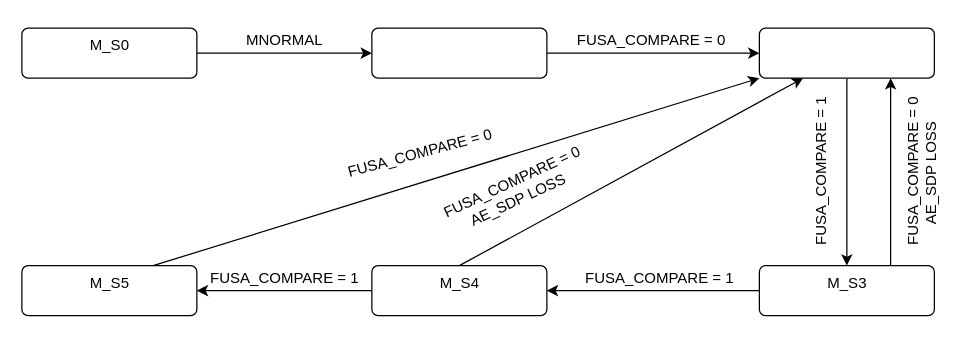
The diagram is 969 pixels wide and 338 high, and some of its shapes have lost their labels. Here are the shapes that lost their labels. From the top down, the centre of each, then its label:
At point 459,52: "M_S1".
At point 846,52: "M_S2".
